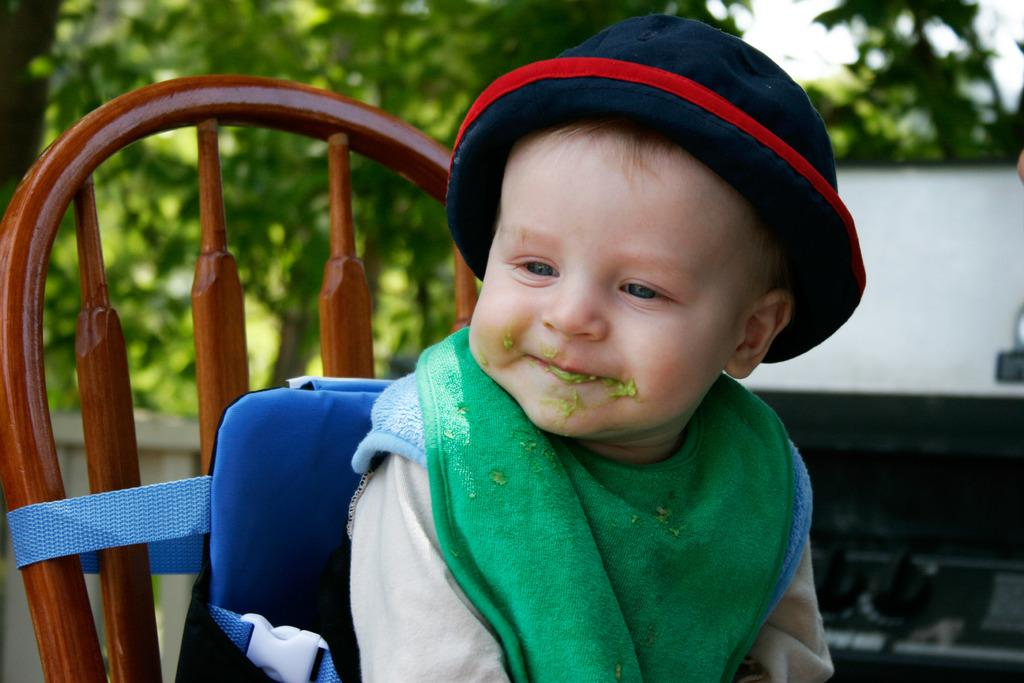Hat: (442, 11, 868, 366)
